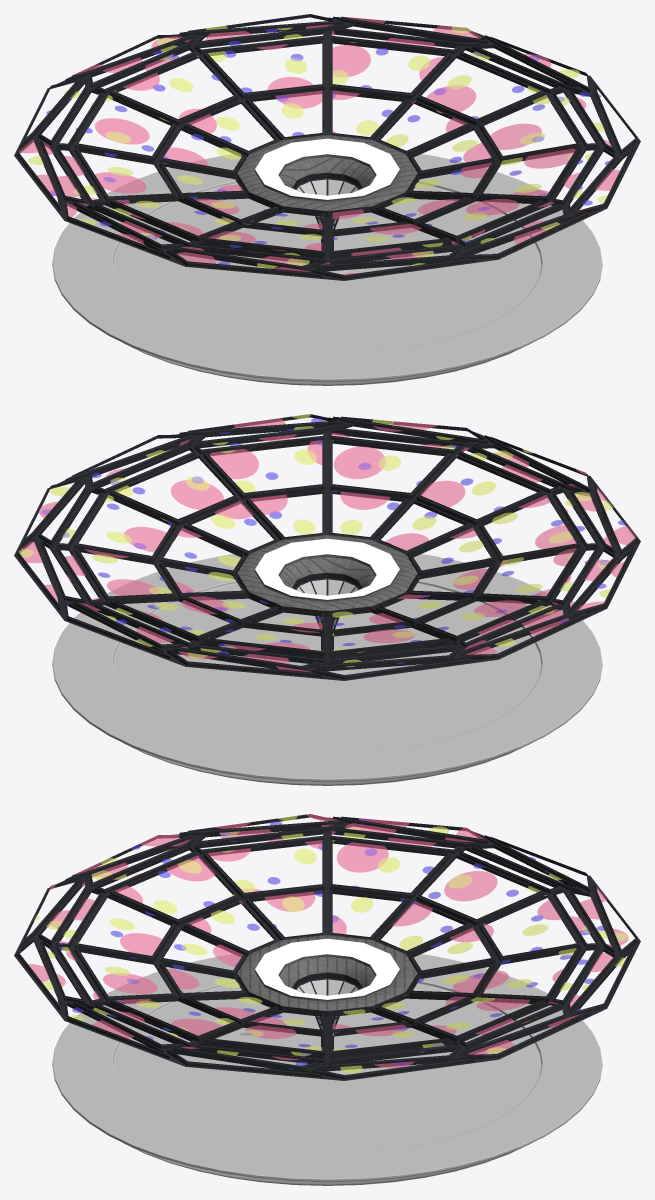
File: PortalRoom.gltf
3 views of the same model, one above another, from view 1: azimuth 30°, elevation 25°; view 2: azimuth 150°, elevation 25°; view 3: azimuth 270°, elevation 25° (orthographic).
Parts seen in each view (by area): view 1: Floor, Roof, Glass, PillerTop, Piller-Frame, PilleIInlay; view 2: Floor, Roof, Glass, PillerTop, Piller-Frame, PilleIInlay; view 3: Floor, Roof, Glass, PillerTop, Piller-Frame, PilleIInlay.
Part boxes in pixels (x1,y1,x2,y2): Floor: (52, 154, 602, 385); Roof: (14, 14, 640, 280); Glass: (19, 16, 619, 274); PillerTop: (237, 135, 417, 211); Piller-Frame: (292, 172, 362, 250); PilleIInlay: (296, 179, 358, 229); Floor: (52, 554, 602, 785); Roof: (14, 414, 640, 680); Glass: (19, 414, 635, 672); PillerTop: (237, 535, 417, 611); Piller-Frame: (292, 572, 362, 650); PilleIInlay: (296, 579, 358, 629); Floor: (52, 954, 602, 1185); Roof: (14, 814, 640, 1080); Glass: (19, 814, 628, 1073); PillerTop: (237, 935, 417, 1011); Piller-Frame: (292, 972, 362, 1050); PilleIInlay: (296, 979, 358, 1029).
Size of the model in its own units: 78.37 by 18.32 by 78.37.
